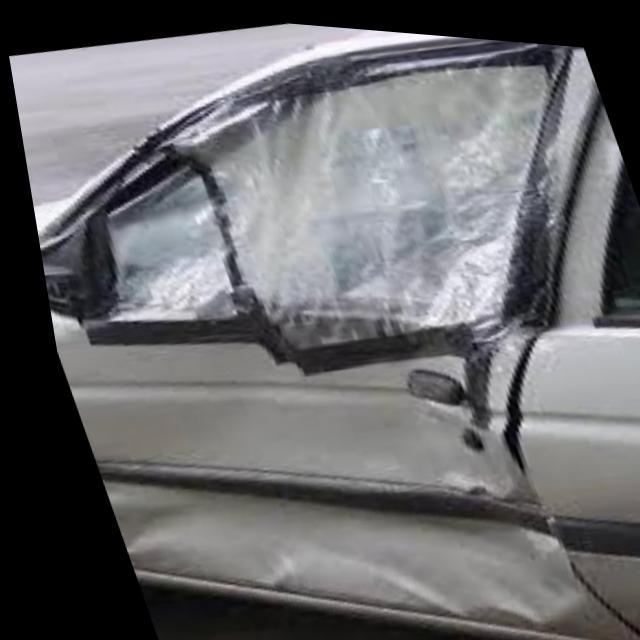dent: (87, 482, 567, 626)
dislocated part: (469, 320, 543, 489)
glass shatter: (80, 40, 556, 320)
no part: (31, 224, 78, 333)
